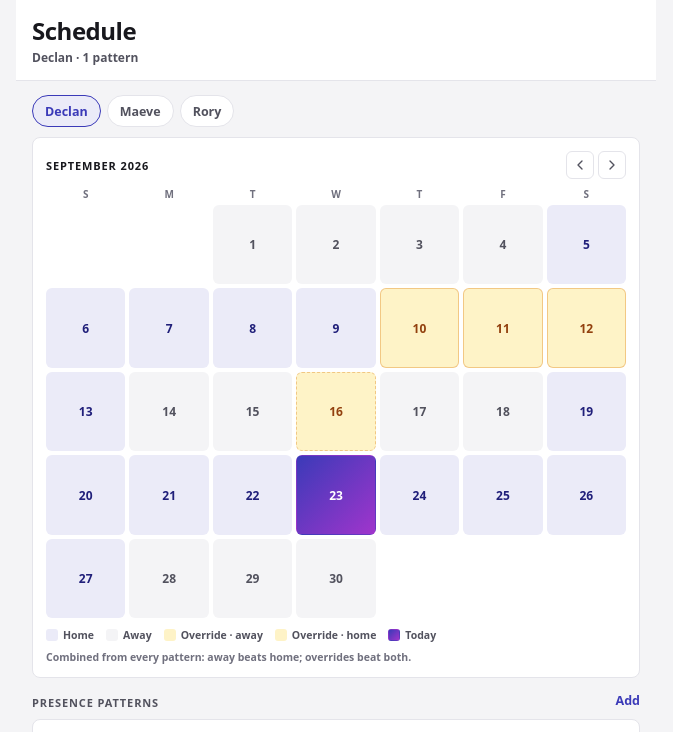
Scenario: ScheduleTab › header names the child and how many patterns it has
Expected: the heading "Schedule" is shown, [32,14,136,47]
Expected: the text "Declan · 1 pattern" is shown, [32,49,138,66]
What coordinates should you click on to do the following:
click the button "Maeve"
I would click on:
 (140, 111)
Its box is [107,95,174,127].
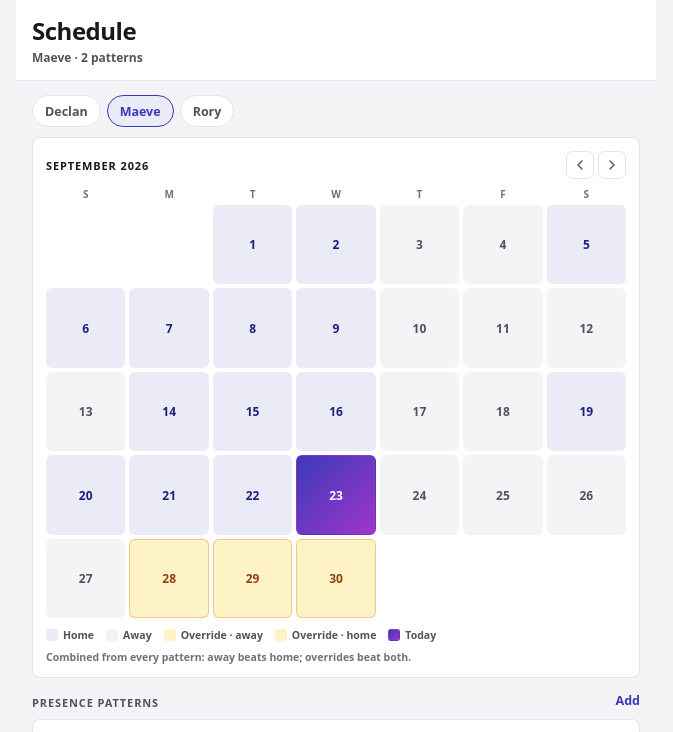
Now the text "Maeve · 2 patterns" is shown, box [32,49,143,66]
What coordinates should you click on to do the following:
click the button "Rory"
I would click on:
 (207, 111)
Its box is [180,95,234,127].
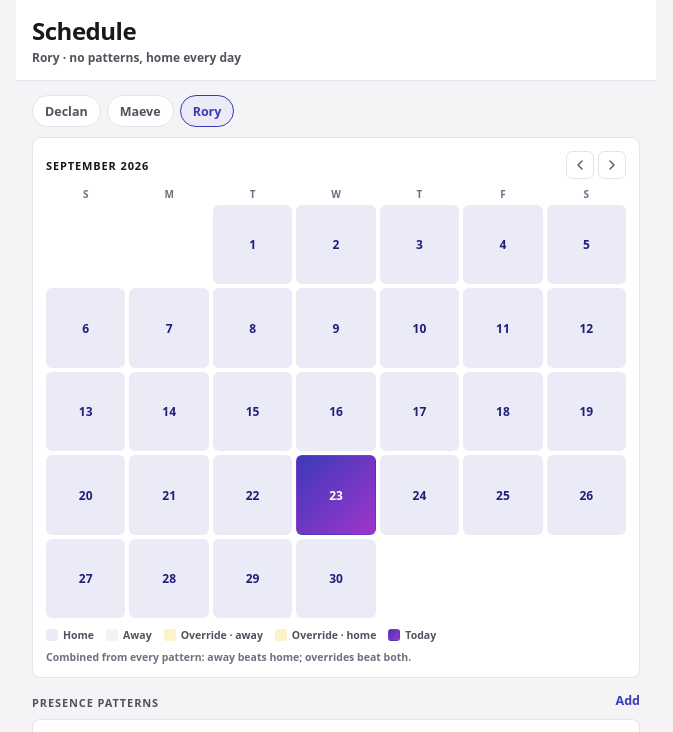
Now the text "Rory · no patterns, home every day" is shown, box [32,49,241,66]
